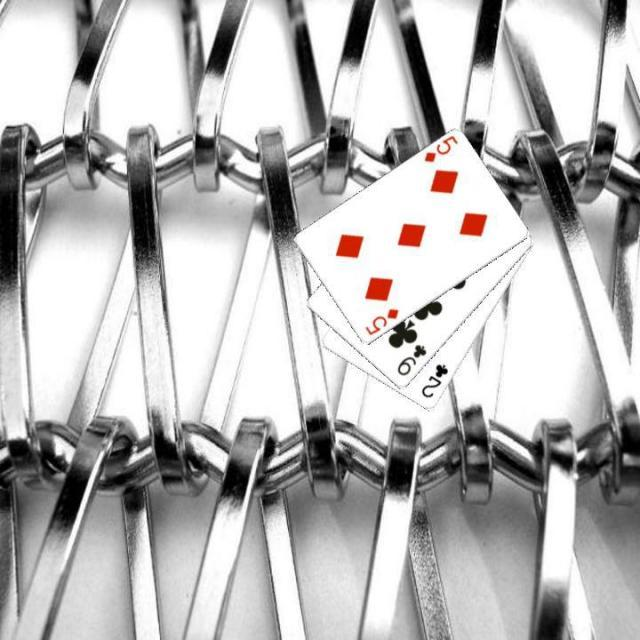2C: (417, 360, 450, 400)
5D: (361, 305, 401, 338), (420, 132, 460, 164)
9C: (393, 340, 428, 378)
